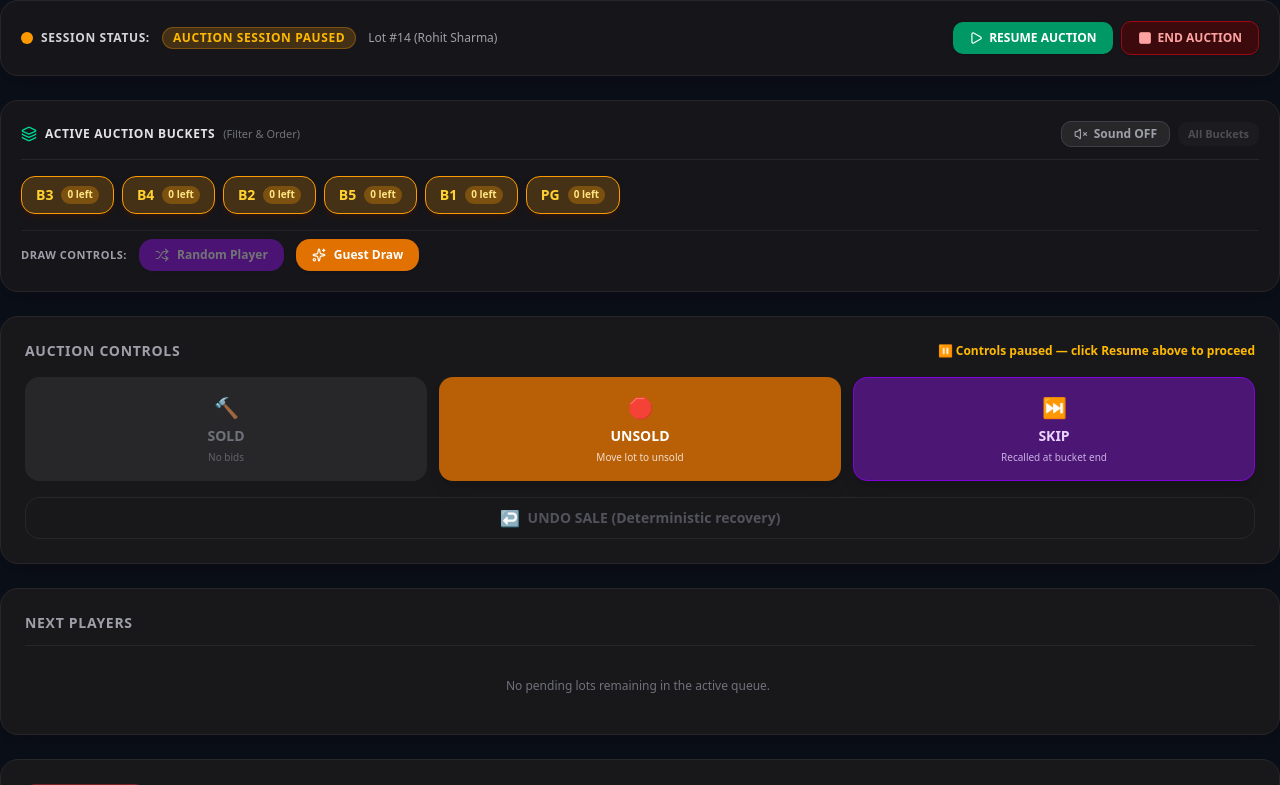
Test: Fix C — Optimistic Resume on Admin Operator Controls › 4. Reconciles optimistic UI with authoritative server sessionState and startedAt upon success
Click the button "RESUME AUCTION" at [1033, 38], box x1=953 y1=22 x2=1113 y2=54
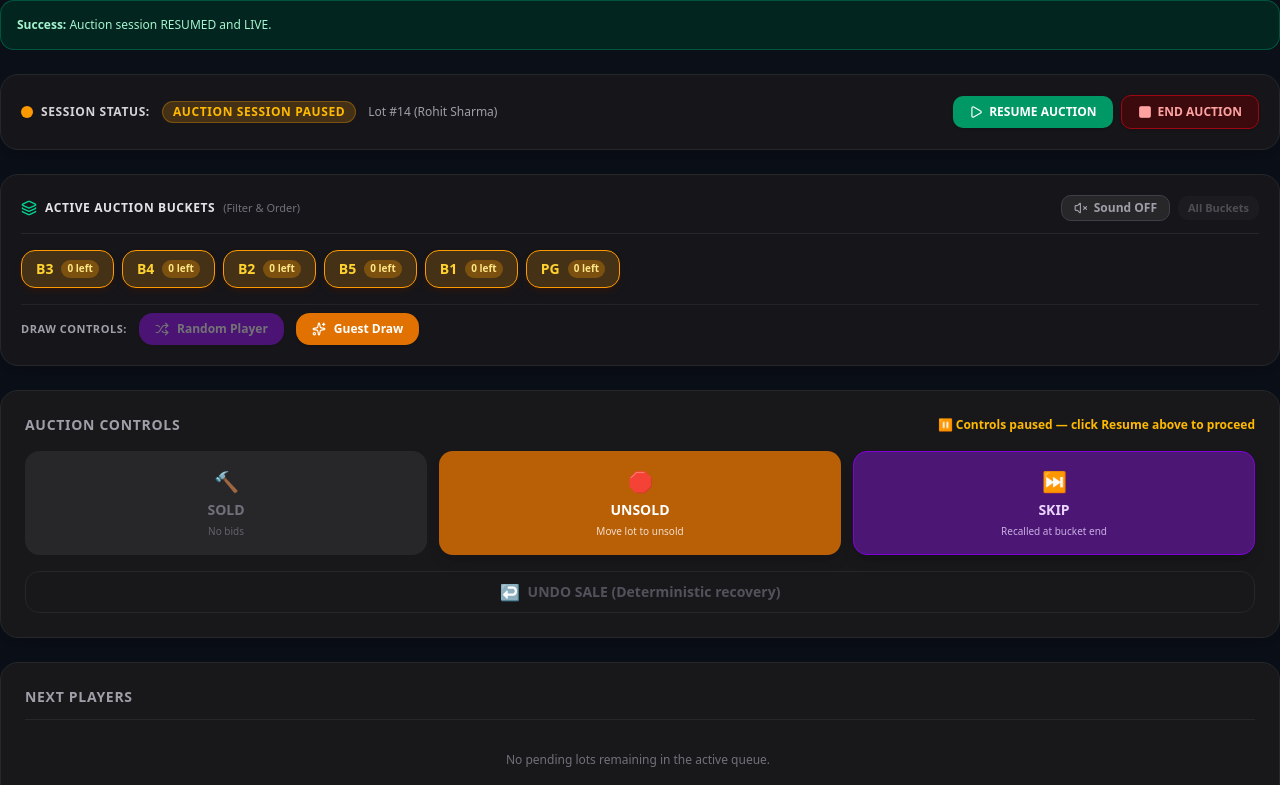
Result: the text "Success: Auction session RESUMED and LIVE." is shown at x1=0 y1=0 x2=1279 y2=50
